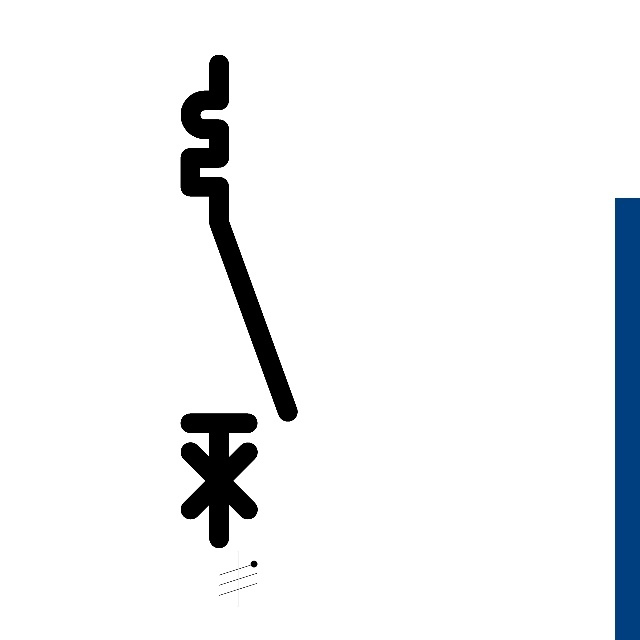interruptor_termomagnetico: (178, 52, 300, 551)
